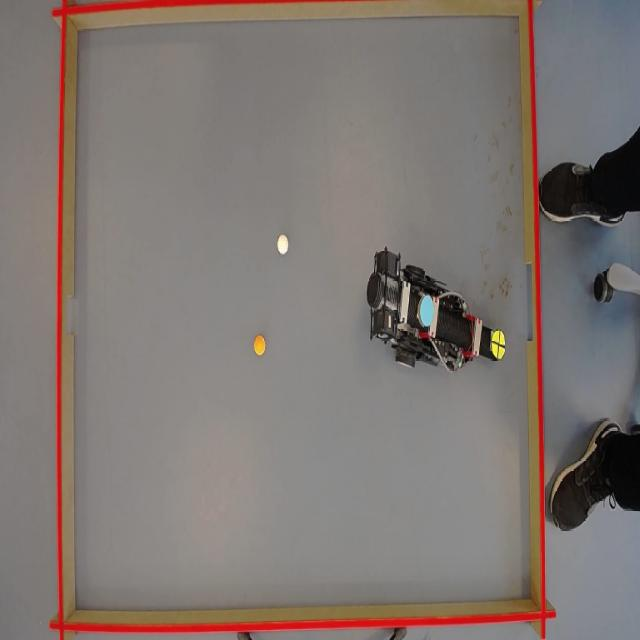orange: (254, 335, 268, 356)
robot: (365, 250, 512, 376)
robot-front: (490, 327, 507, 362)
robot-rear: (415, 294, 436, 327)
white: (275, 233, 289, 254)
